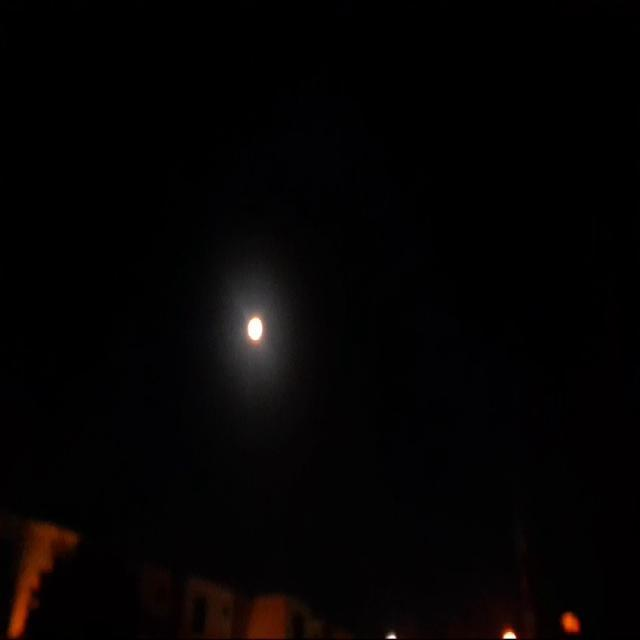moon: (230, 304, 252, 344)
